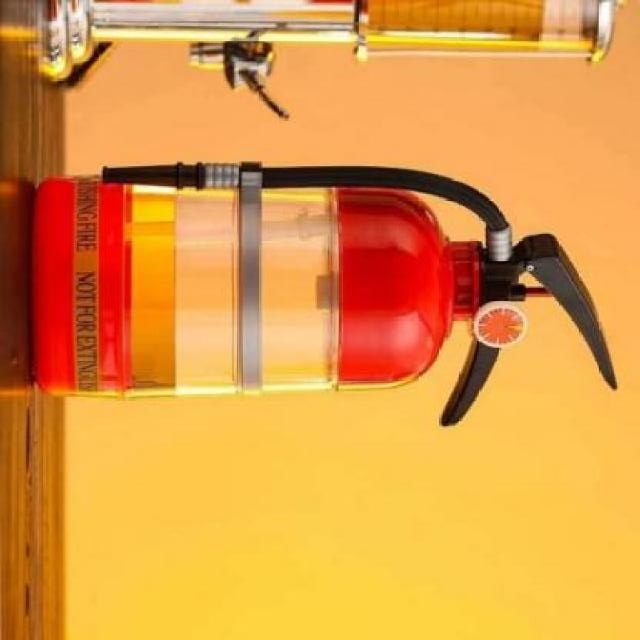fire extinguisher: (31, 162, 617, 426)
